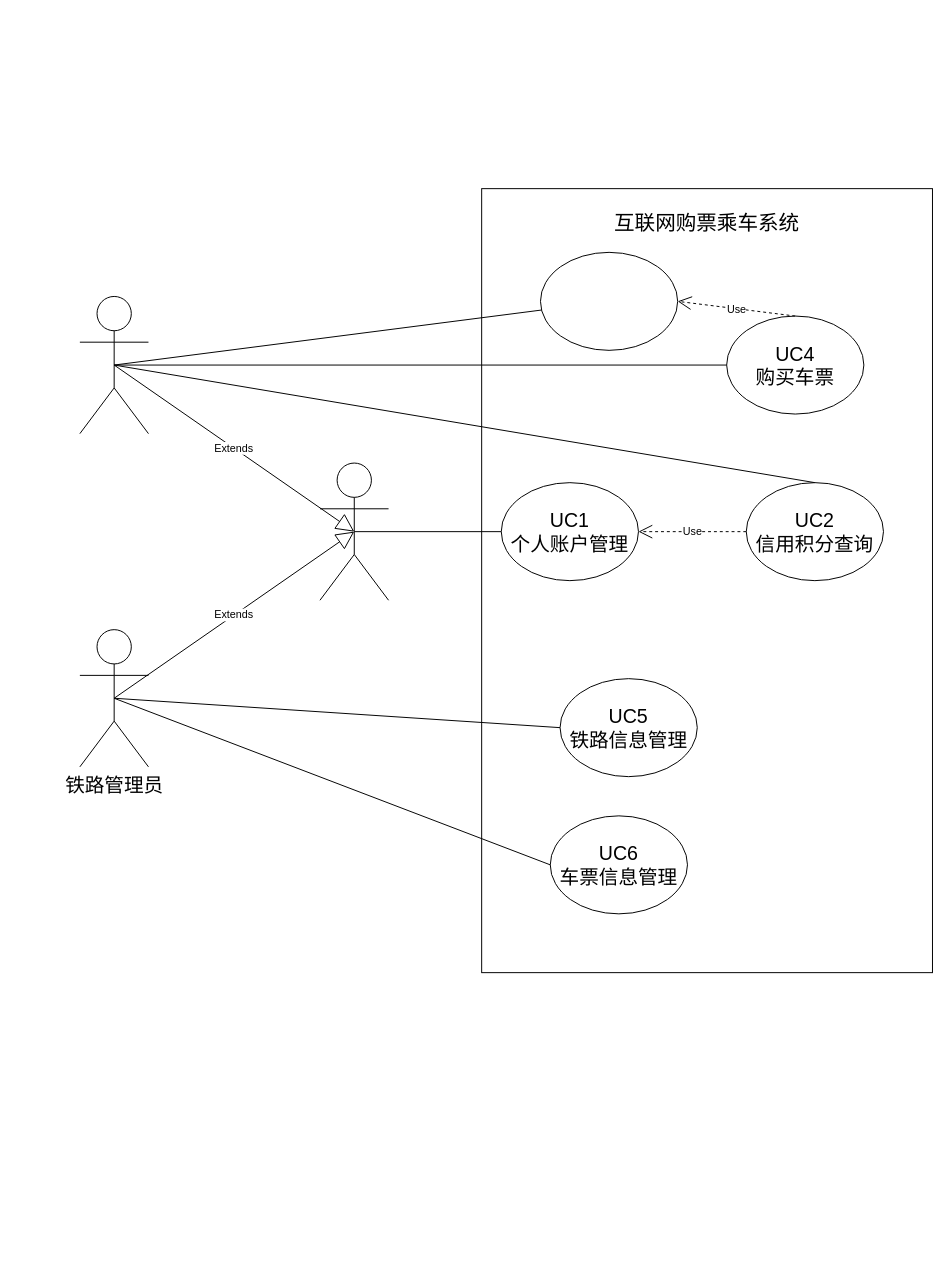
This 950x1264 diagram has some shape labels left out. The centre of each missing label's shape, as x and y in pixels:
UC3 浏览车票详细信息: [608,300]
客户: [113,364]
用户: [354,531]
